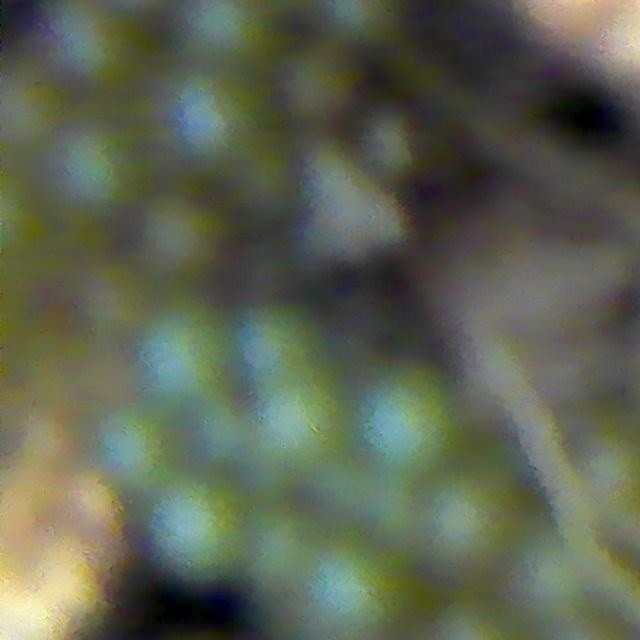SeaGrape: (341, 356, 487, 472), (119, 301, 237, 419), (151, 62, 264, 174), (135, 479, 257, 577), (416, 468, 527, 573), (42, 113, 145, 220), (132, 189, 229, 286), (40, 0, 140, 93), (306, 551, 409, 640), (228, 296, 324, 389), (172, 0, 277, 77), (258, 401, 355, 483), (273, 44, 363, 132), (506, 531, 594, 620), (87, 406, 173, 479), (0, 166, 55, 278), (249, 516, 318, 597), (187, 395, 261, 470), (0, 76, 68, 157)
